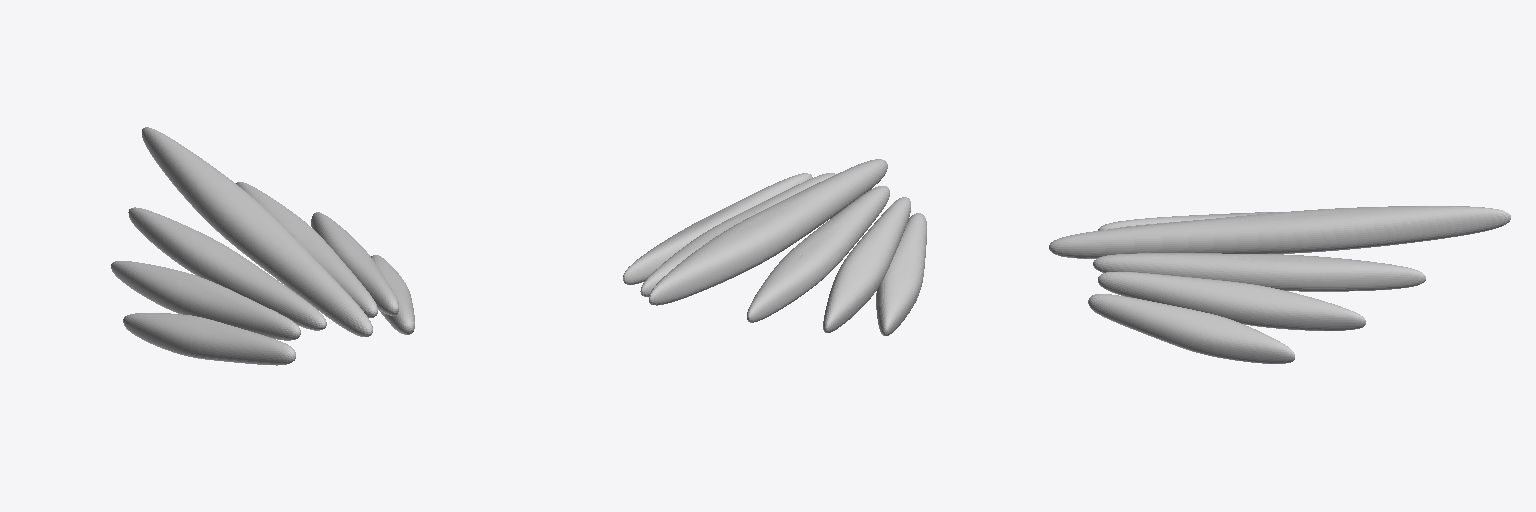
Rendered from hiboux tail.obj.
3 renders of one model, left to right at view 1: azimuth 30°, elevation 25°; view 2: azimuth 150°, elevation 25°; view 3: azimuth 270°, elevation 25°, orthographic.
Visible parts, largest first — view 1: Group43763, Group42935, Group42950, Group42965; view 2: Group43763, Group42935, Group42950, Group42965; view 3: Group43763, Group42950, Group42935, Group42965.
Boxes of the visible parts, x1=… form: Group43763: x1=142, y1=127, x2=372, y2=336; Group42935: x1=128, y1=182, x2=377, y2=330; Group42950: x1=111, y1=212, x2=398, y2=340; Group42965: x1=123, y1=255, x2=414, y2=365; Group43763: x1=649, y1=159, x2=887, y2=305; Group42935: x1=640, y1=173, x2=889, y2=322; Group42950: x1=623, y1=173, x2=910, y2=332; Group42965: x1=876, y1=213, x2=926, y2=335; Group43763: x1=1049, y1=206, x2=1510, y2=258; Group42950: x1=1098, y1=212, x2=1365, y2=330; Group42935: x1=1093, y1=220, x2=1425, y2=291; Group42965: x1=1088, y1=294, x2=1294, y2=363.
Bounding box in the file's own units: 4.29 × 1.6 × 6.77.